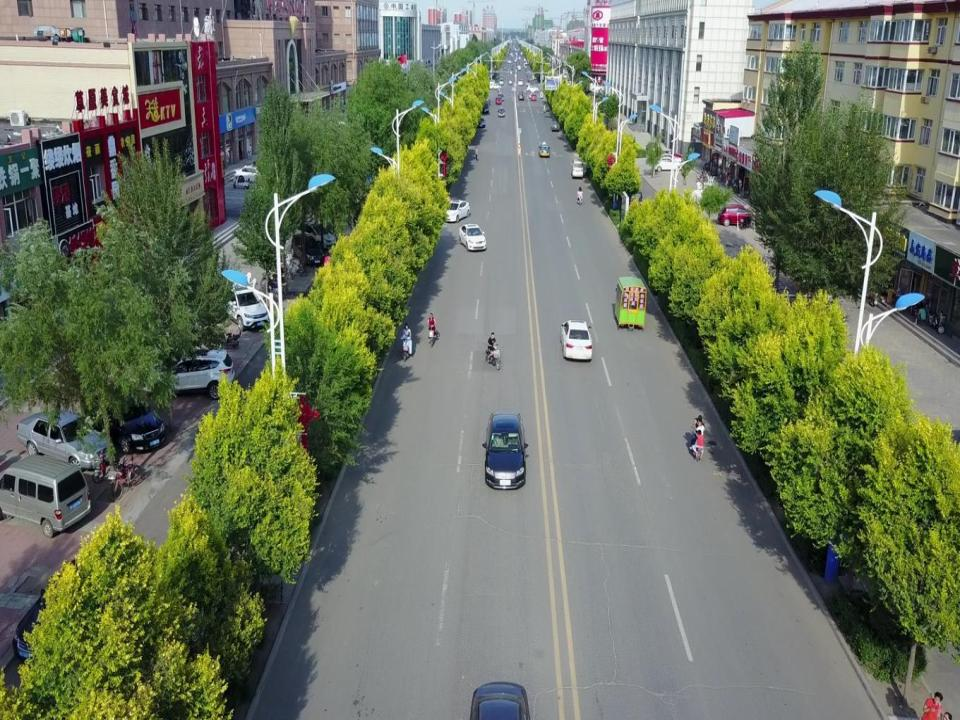car: (15, 406, 111, 467), (88, 379, 164, 451), (150, 348, 236, 398), (483, 412, 526, 496), (467, 677, 534, 720), (216, 278, 268, 328), (557, 323, 591, 361), (718, 204, 756, 226), (458, 224, 488, 251), (442, 199, 470, 221), (235, 166, 268, 182), (652, 156, 683, 172), (652, 154, 683, 168), (538, 144, 550, 158)
van: (0, 450, 90, 538), (569, 159, 584, 179)
